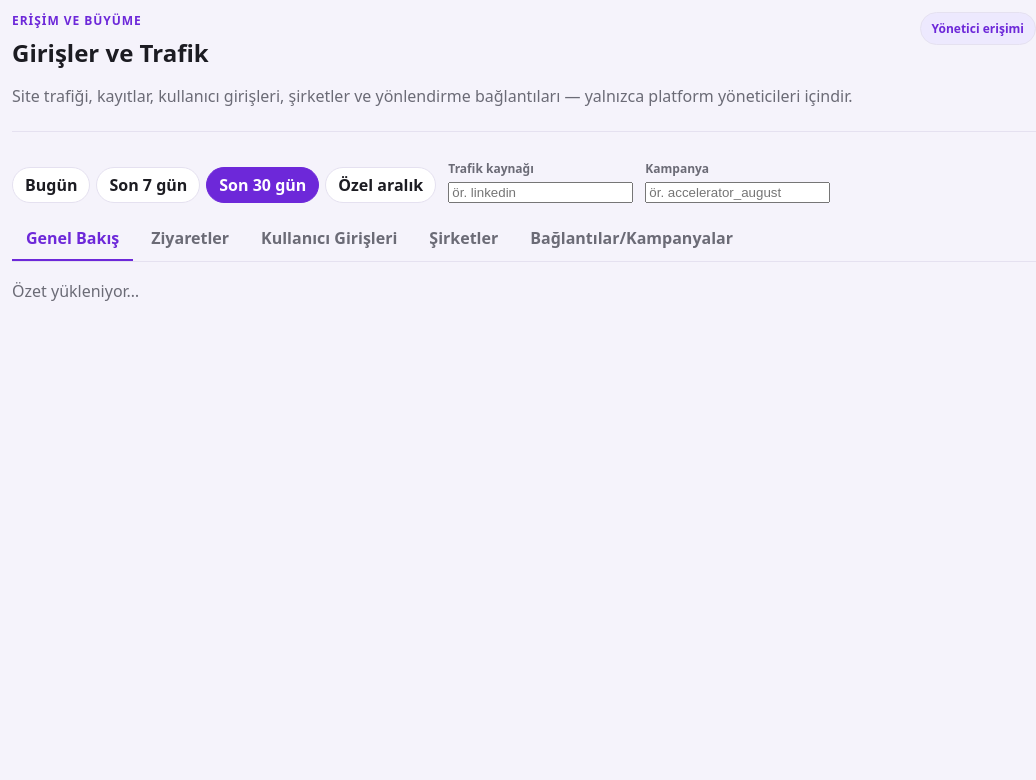
Scenario: AdminTraffic › boş kullanıcı listesinde boş durum gösterir
Click the tab "Kullanıcı Girişleri".
click(329, 239)  # box [247,217,411,261]
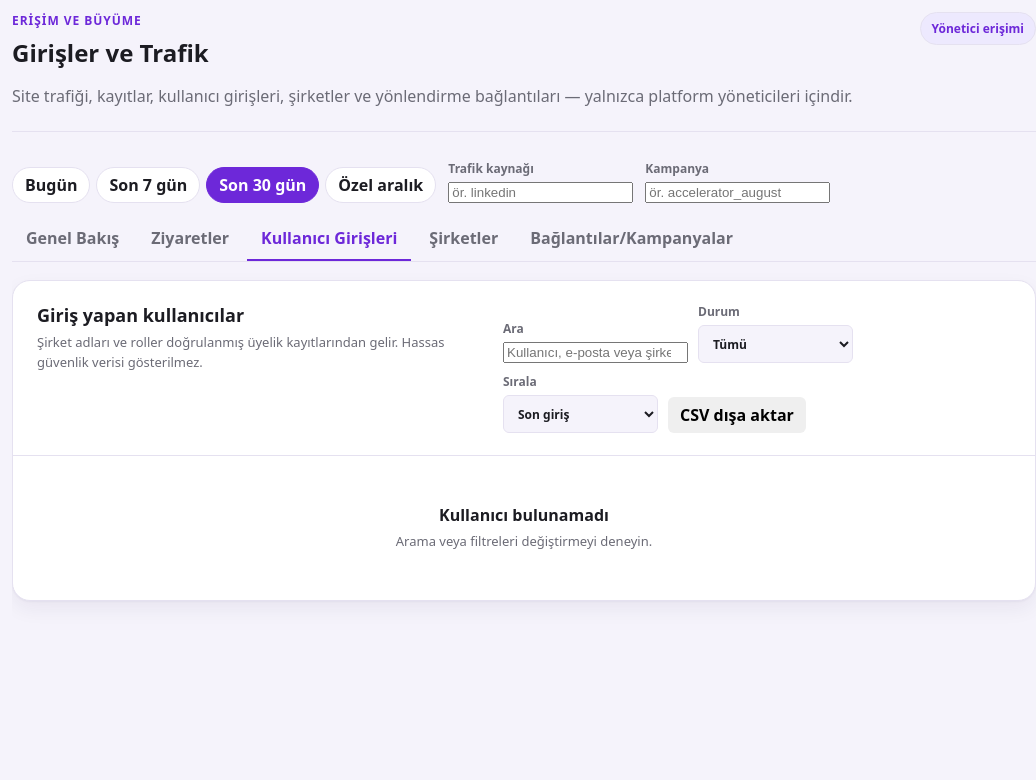
Now the text "Kullanıcı bulunamadı" is shown, box [439,504,609,526]
